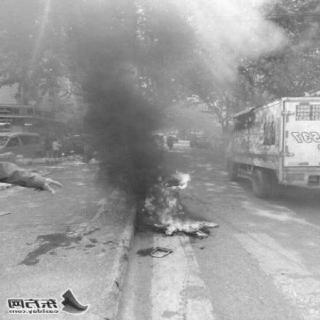Fire: (133, 165, 221, 241)
